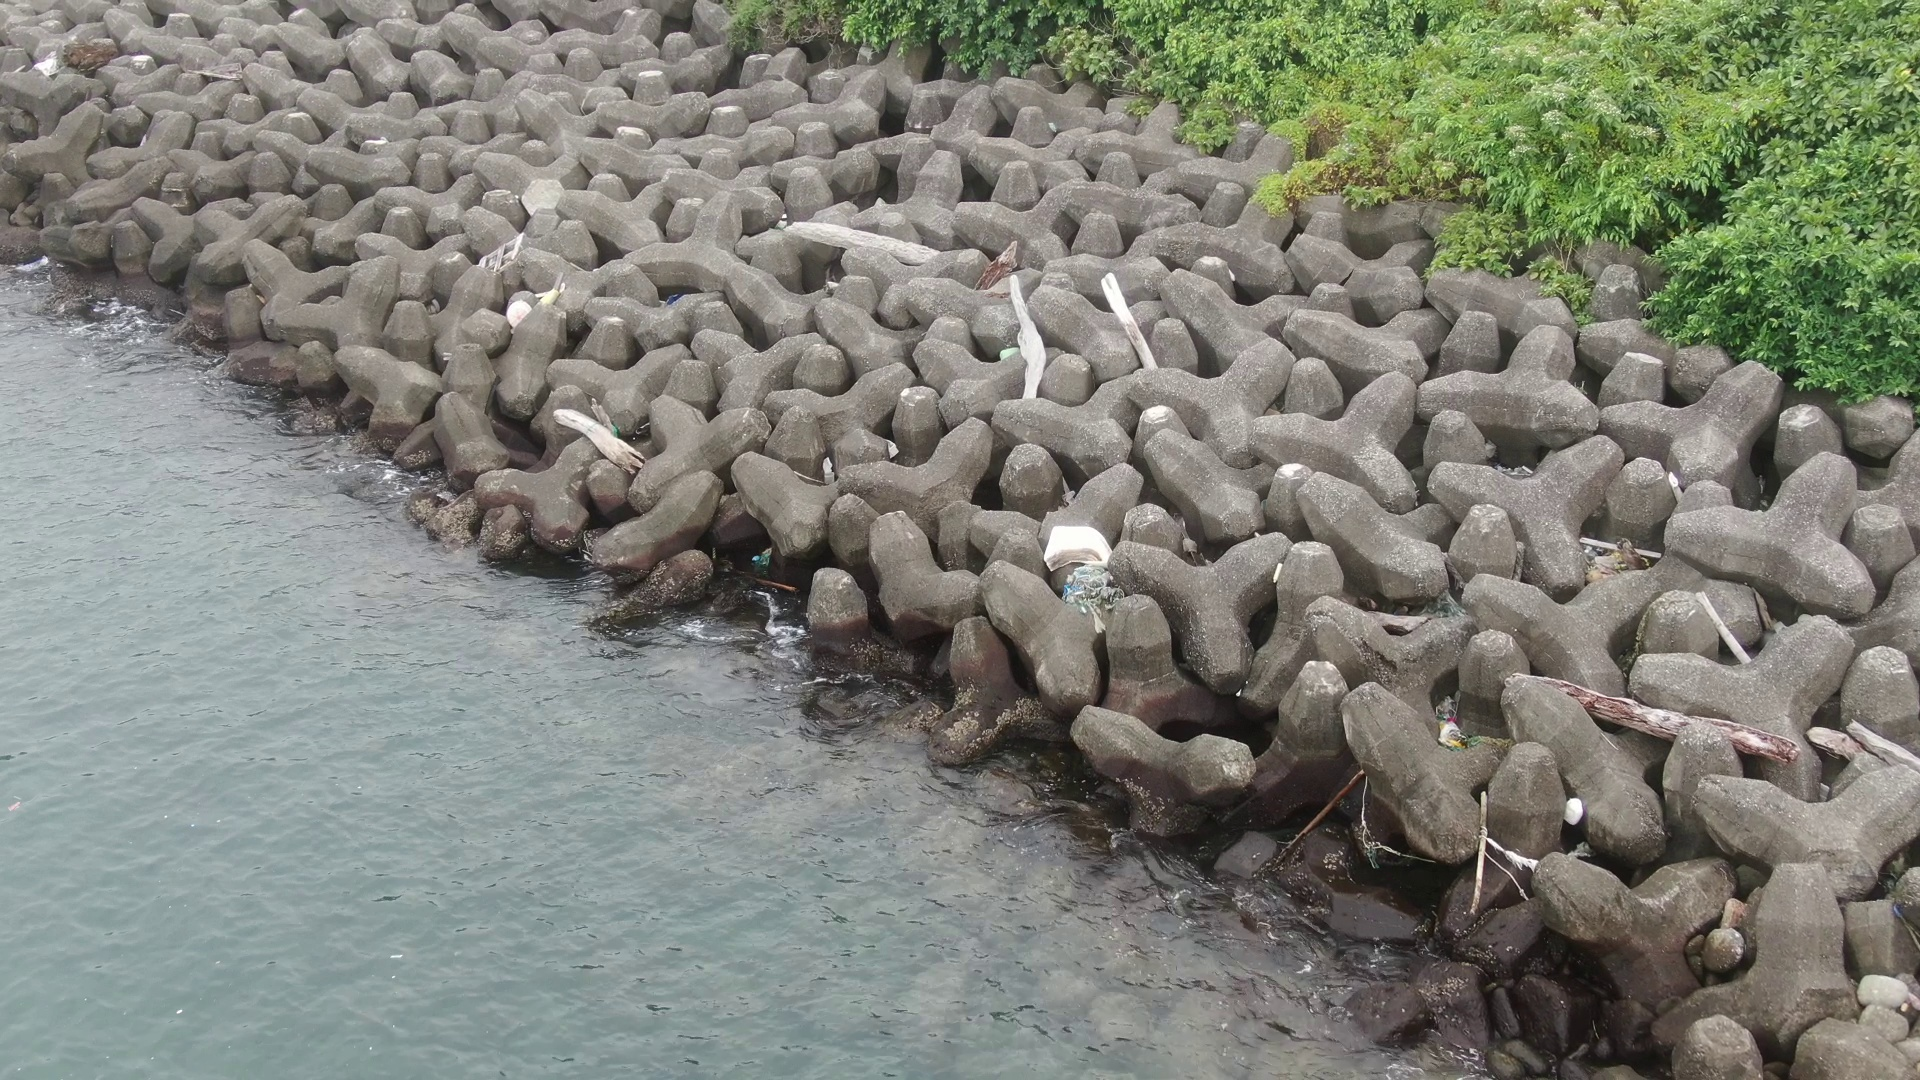garbage: (1040, 516, 1131, 638), (500, 277, 564, 331), (468, 227, 527, 274), (1429, 692, 1476, 752), (1555, 783, 1598, 836)
